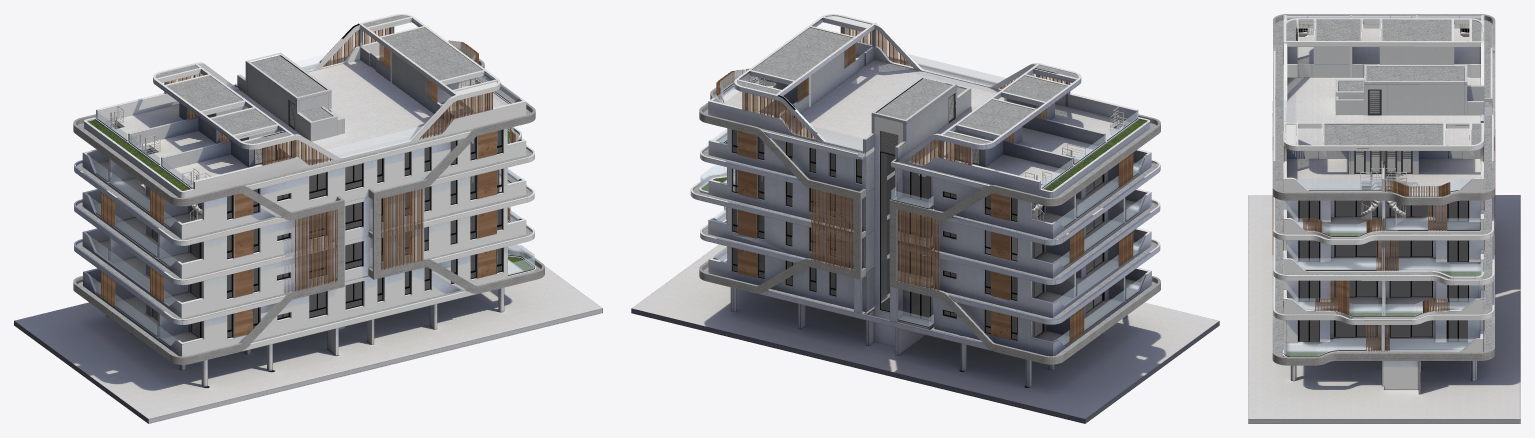
The model's file is type-f-glb-compressed.glb.
The picture shows the model from 3 angles, left to right: view 1: azimuth 30°, elevation 25°; view 2: azimuth 150°, elevation 25°; view 3: azimuth 270°, elevation 25°; orthographic projection.
Parts seen in each view (by area): view 1: Groun_ Floor001, RAILING - 028, Object_14572, Roo_Floor, 1-4 Floor, BetonFrame 3rd-01, KOMA-01, ROOF_Block, KOMA-02, KOMA-004+, KOMA-003, Roof Top L (+12 smaller); view 2: Groun_ Floor001, RAILING - 028, Object_14572, Roo_Floor, KOMA-01, 1-4 Floor, BetonFrame 3rd-01, KOMA-02, ROOF_Block, KOMA-004+, KOMA-003, Roof Top L (+14 smaller); view 3: Groun_ Floor001, 1-4 Floor, Object_14572, Roo_Floor, ROOF_Block, RAILING - 017, Win Glass, BetonFrame 3rd-01, RAILING - 028, Roof Top L, Roof Top R, KOMA-02 (+13 smaller).
Boxes of the visible parts, x1=… form: Groun_ Floor001: x1=14, y1=244, x2=602, y2=423; RAILING - 028: x1=101, y1=26, x2=515, y2=337; Object_14572: x1=76, y1=15, x2=540, y2=355; Roo_Floor: x1=104, y1=54, x2=508, y2=185; 1-4 Floor: x1=93, y1=128, x2=523, y2=345; BetonFrame 3rd-01: x1=73, y1=48, x2=544, y2=364; KOMA-01: x1=76, y1=246, x2=536, y2=356; ROOF_Block: x1=128, y1=27, x2=490, y2=169; KOMA-02: x1=82, y1=207, x2=526, y2=318; KOMA-004+: x1=82, y1=84, x2=526, y2=239; KOMA-003: x1=82, y1=167, x2=526, y2=278; Roof Top L: x1=84, y1=62, x2=356, y2=197; Groun_ Floor001: x1=631, y1=244, x2=1219, y2=423; RAILING - 028: x1=716, y1=27, x2=1133, y2=342; Object_14572: x1=693, y1=27, x2=1157, y2=355; Roo_Floor: x1=724, y1=52, x2=1130, y2=185; KOMA-01: x1=708, y1=246, x2=1151, y2=356; 1-4 Floor: x1=723, y1=119, x2=1140, y2=344; BetonFrame 3rd-01: x1=699, y1=77, x2=1160, y2=364; KOMA-02: x1=708, y1=207, x2=1151, y2=318; ROOF_Block: x1=744, y1=26, x2=1105, y2=169; KOMA-004+: x1=708, y1=83, x2=1151, y2=238; KOMA-003: x1=708, y1=167, x2=1151, y2=278; Roof Top L: x1=898, y1=63, x2=1150, y2=197; Groun_ Floor001: x1=1248, y1=195, x2=1520, y2=423; 1-4 Floor: x1=1285, y1=115, x2=1480, y2=353; Object_14572: x1=1275, y1=20, x2=1492, y2=356; Roo_Floor: x1=1287, y1=28, x2=1480, y2=192; ROOF_Block: x1=1284, y1=15, x2=1492, y2=191; RAILING - 017: x1=1284, y1=15, x2=1493, y2=356; Win Glass: x1=1300, y1=186, x2=1467, y2=341; BetonFrame 3rd-01: x1=1272, y1=14, x2=1495, y2=365; RAILING - 028: x1=1272, y1=47, x2=1495, y2=351; Roof Top L: x1=1283, y1=15, x2=1484, y2=107; Roof Top R: x1=1283, y1=107, x2=1484, y2=193; KOMA-02: x1=1283, y1=280, x2=1483, y2=319.
Size of the model in its own units: 39.02 by 19.35 by 20.
41 materials, 25 textured.
